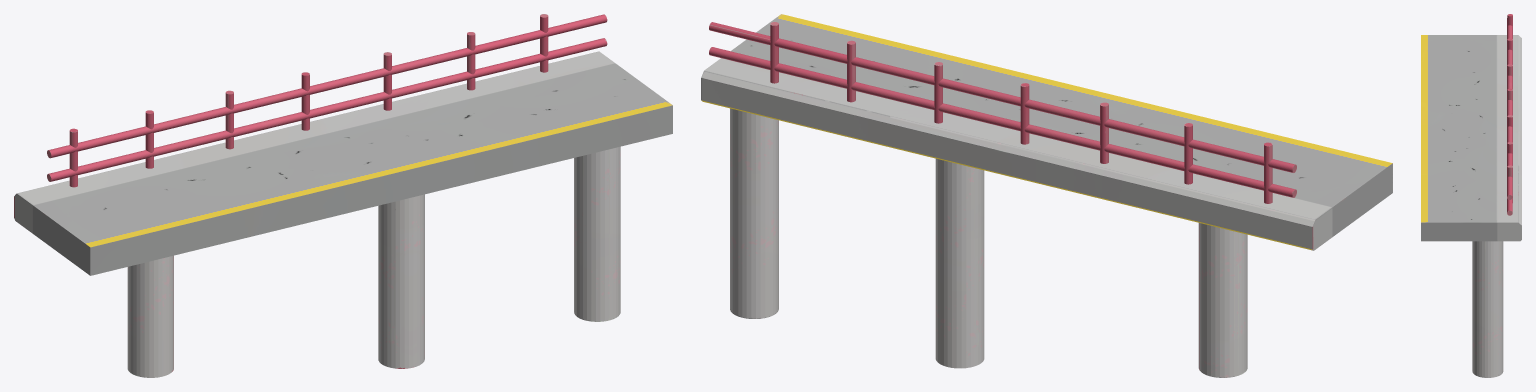
The model's file is Bridge.obj.
3 views of the same model, side by side, from view 1: azimuth 30°, elevation 25°; view 2: azimuth 150°, elevation 25°; view 3: azimuth 270°, elevation 25° (orthographic). The views are drawn at different scales.
Parts seen in each view (by area): view 1: Bridge_0; view 2: Bridge_0; view 3: Bridge_0.
Boxes of the visible parts, box(x1,y1,x2,y2) form: Bridge_0: box(14, 14, 672, 377); Bridge_0: box(701, 14, 1392, 377); Bridge_0: box(1421, 14, 1521, 377).
Bounding box in the file's own units: 150 × 71.86 × 34.02.
1 material, 1 textured.
